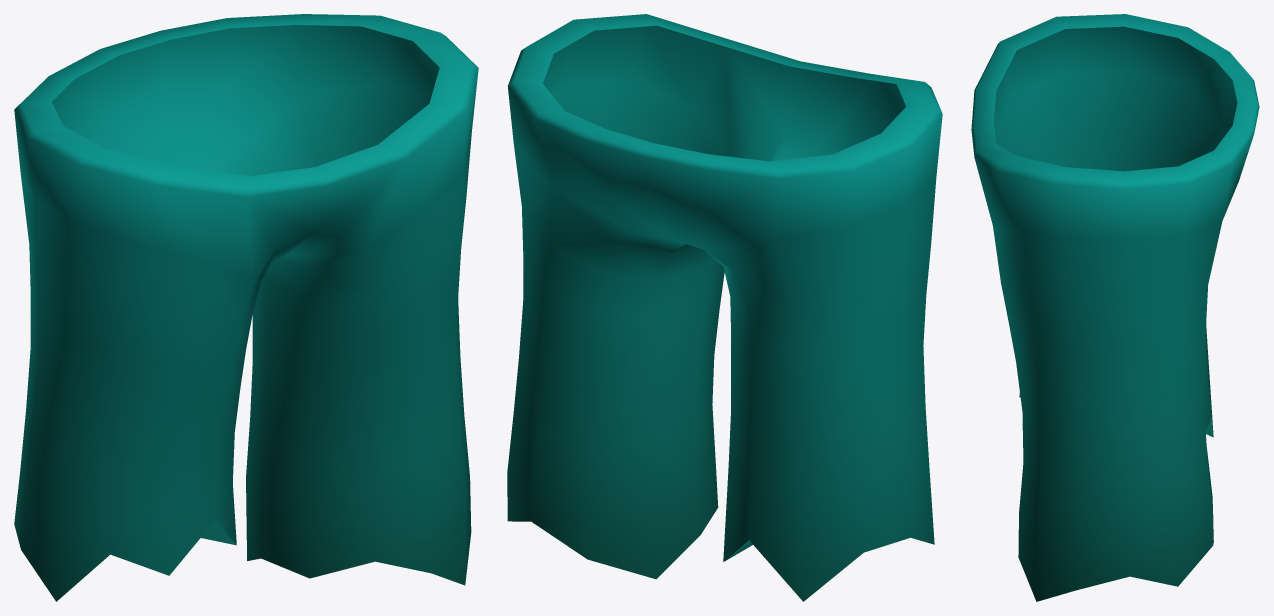
File: Pants_12.glb
The picture shows the model from 3 angles, left to right: view 1: azimuth 30°, elevation 25°; view 2: azimuth 150°, elevation 25°; view 3: azimuth 270°, elevation 25°; orthographic projection. The views are drawn at different scales.
Visible parts, largest first — view 1: Pants_12; view 2: Pants_12; view 3: Pants_12.
Part boxes in pixels (x1,y1,x2,y2): Pants_12: [14, 14, 478, 601]; Pants_12: [507, 14, 942, 601]; Pants_12: [971, 14, 1259, 601].
Size of the model in its own units: 0.2473 by 0.2843 by 0.1716.
1 material, 1 textured.
